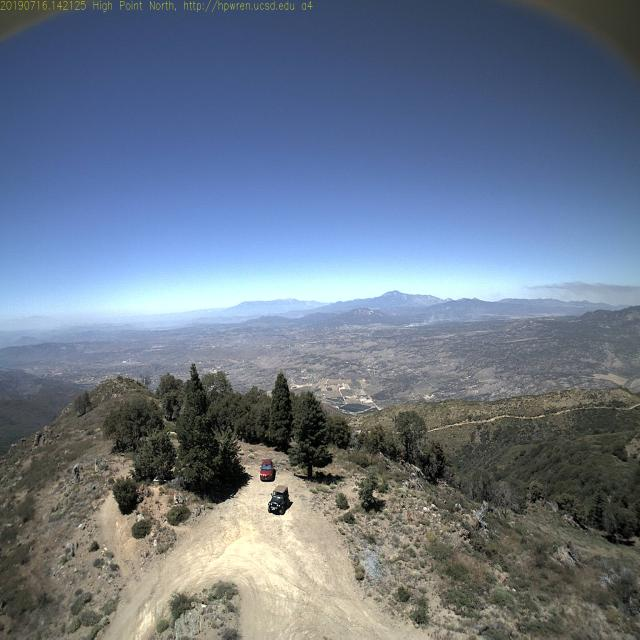smoke: (396, 302, 426, 339)
